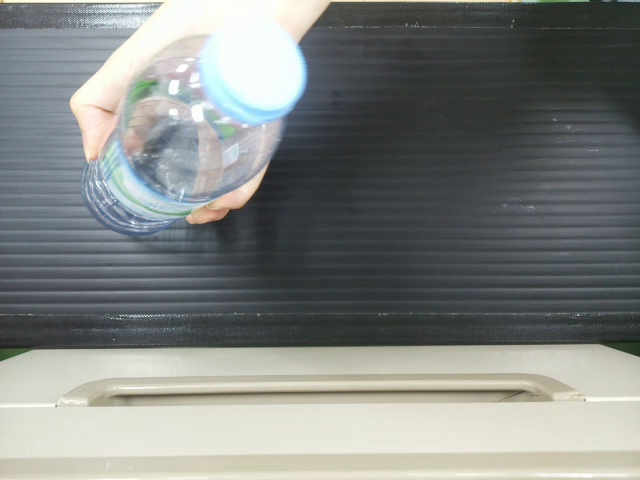bottle: (75, 26, 304, 223)
